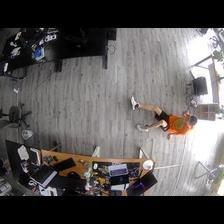fall: (129, 95, 197, 139)
